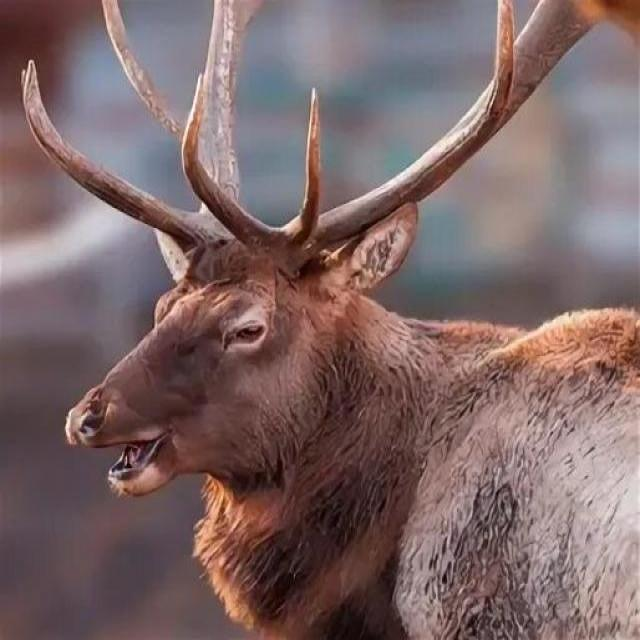deer: (49, 9, 640, 640)
